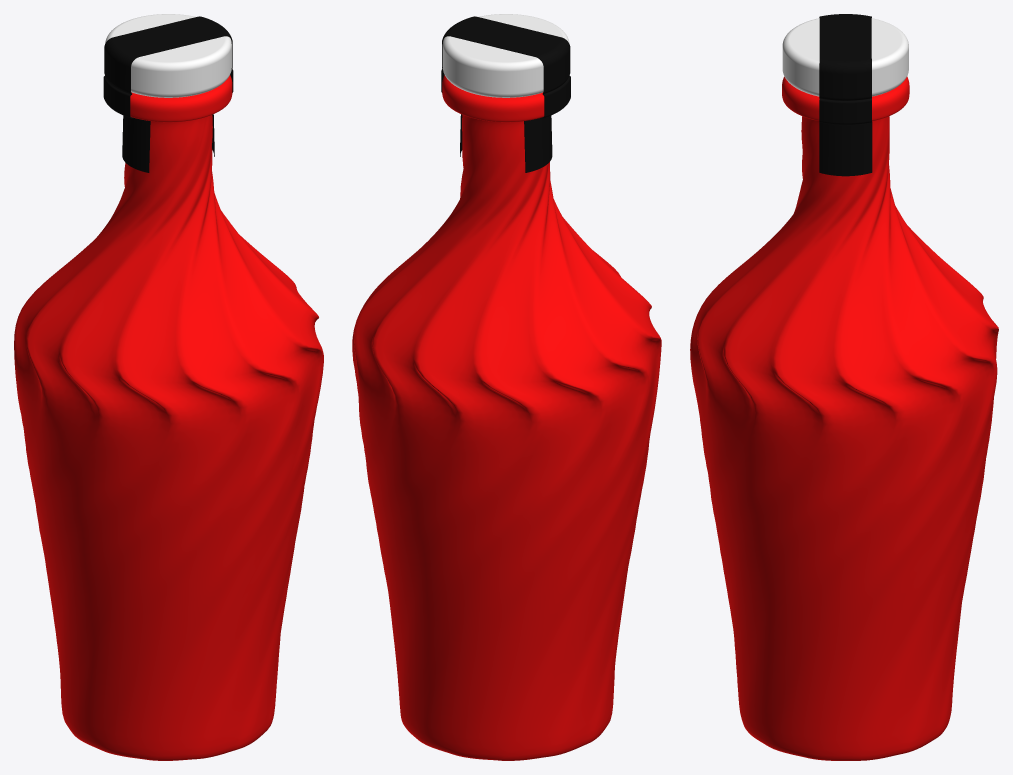
The model's file is Bottle.fbx.
3 renders of one model, left to right at view 1: azimuth 30°, elevation 25°; view 2: azimuth 150°, elevation 25°; view 3: azimuth 270°, elevation 25°, orthographic.
Visible parts, largest first — view 1: skull bottle.001, skull bottle.004, skull bottle.003; view 2: skull bottle.001, skull bottle.004, skull bottle.003; view 3: skull bottle.001, skull bottle.004, skull bottle.003.
Part boxes in pixels (left/top/right/bottom): skull bottle.001: left=14, top=75, right=323, bottom=760; skull bottle.004: left=103, top=16, right=233, bottom=172; skull bottle.003: left=105, top=14, right=231, bottom=97; skull bottle.001: left=352, top=75, right=661, bottom=760; skull bottle.004: left=441, top=16, right=570, bottom=172; skull bottle.003: left=442, top=14, right=569, bottom=97; skull bottle.001: left=690, top=76, right=998, bottom=760; skull bottle.004: left=819, top=14, right=872, bottom=176; skull bottle.003: left=782, top=18, right=908, bottom=96.
Size of the model in its own units: 8.75 by 21.24 by 8.73.
